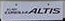character: (52, 6, 60, 14), (28, 7, 37, 14), (42, 7, 50, 14), (36, 7, 43, 14), (48, 6, 53, 14)
